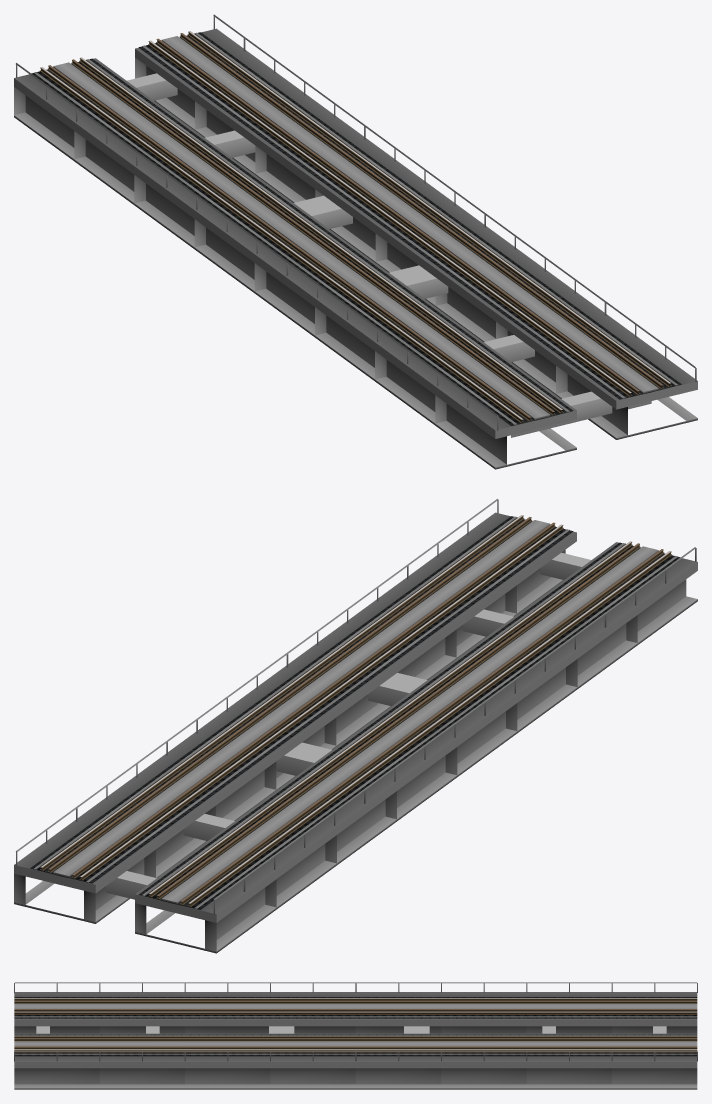
Rendered from HK_BRIGHE.glb.
The picture shows the model from 3 angles, top to bottom: view 1: azimuth 30°, elevation 25°; view 2: azimuth 150°, elevation 25°; view 3: azimuth 270°, elevation 25°; orthographic projection. The views are drawn at different scales.
Visible parts, largest first — view 1: obj6; view 2: obj6; view 3: obj6.
Part boxes in pixels (x1,y1,x2,y2): obj6: [14, 14, 697, 469]; obj6: [14, 498, 697, 953]; obj6: [14, 982, 697, 1089].
Bounding box in the file's own units: 24.3 × 6.18 × 100.
Materials: 11 (10 with a texture image).
